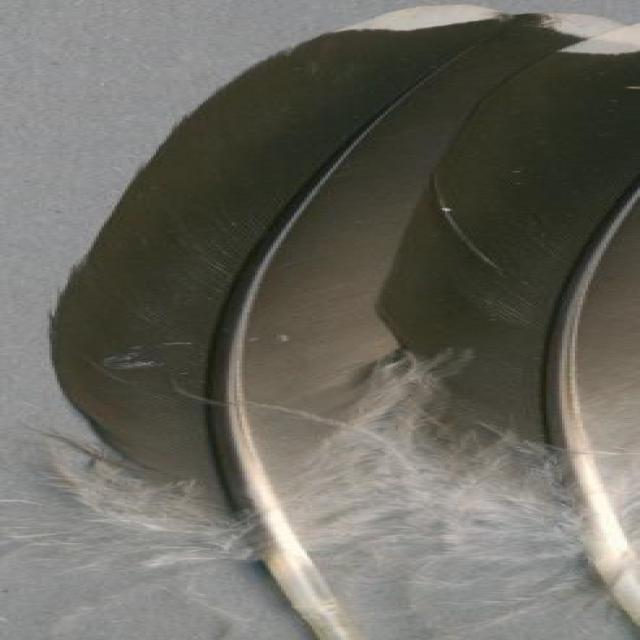feather: (48, 0, 611, 640), (372, 19, 640, 640)
